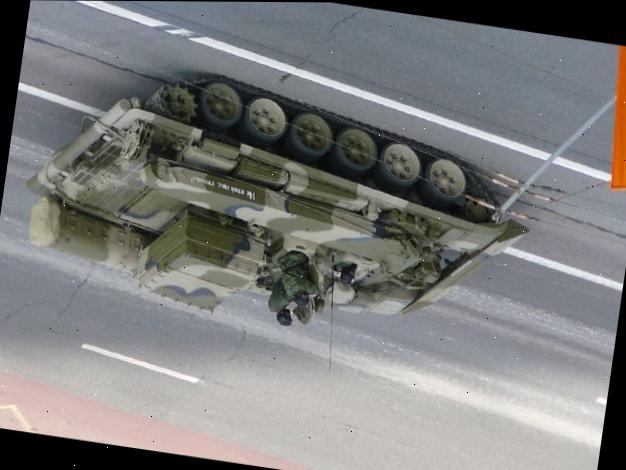armored_car: (10, 60, 526, 368)
